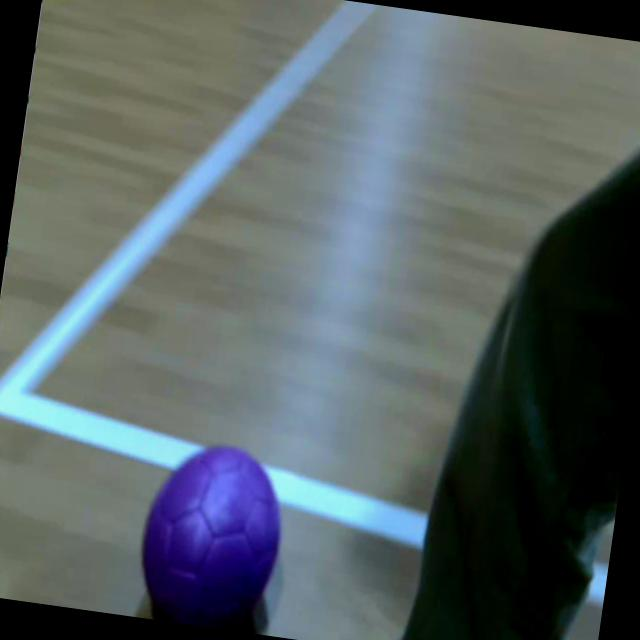purple_ball: (130, 431, 296, 636)
